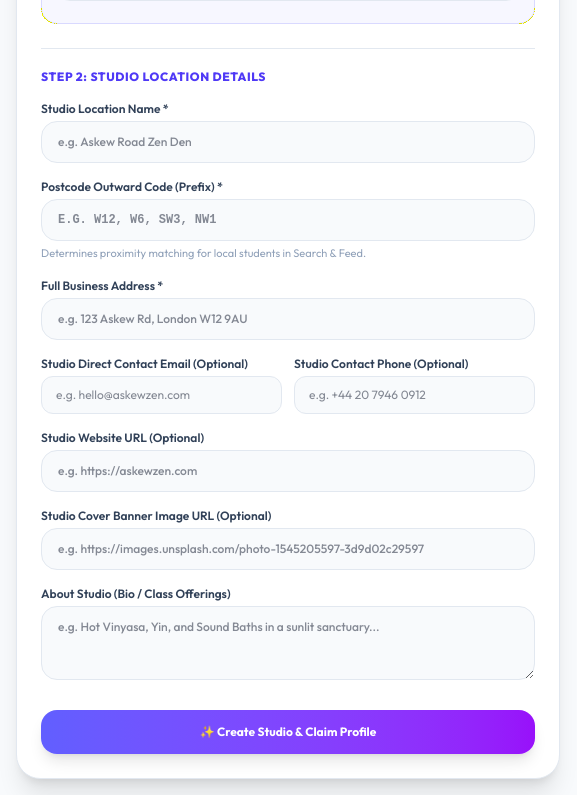
Test: CreateStudioView Component › validates required fields before submitting
(page scrolled)
Click the button with test id "submit-create-studio-button" at (288, 732), box x1=41 y1=710 x2=535 y2=754
(page scrolled)
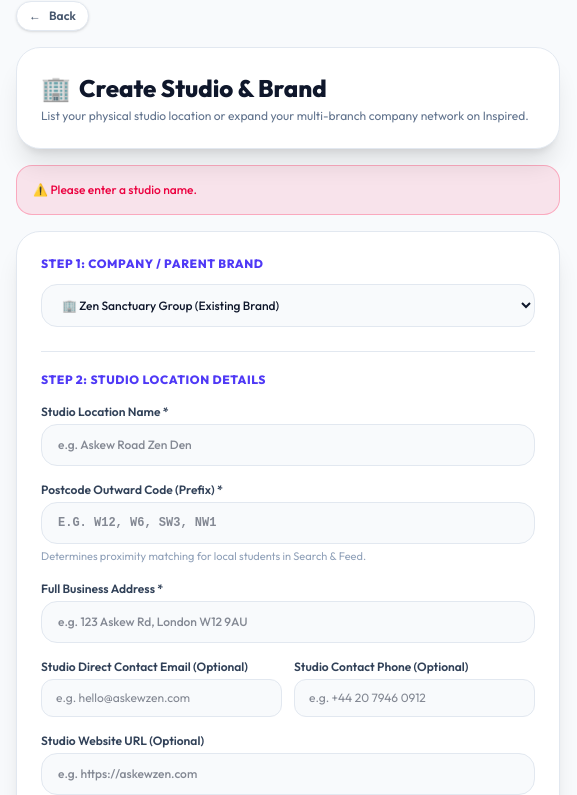
Result: the text with test id "create-studio-error" shows "Please enter a studio name." at x1=50 y1=182 x2=197 y2=197
